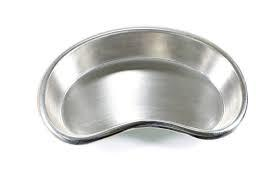Kidney Tray: (37, 25, 249, 144)
